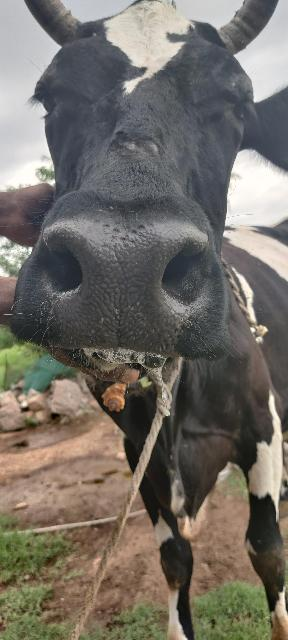Muzzle: (61, 216, 176, 356)
